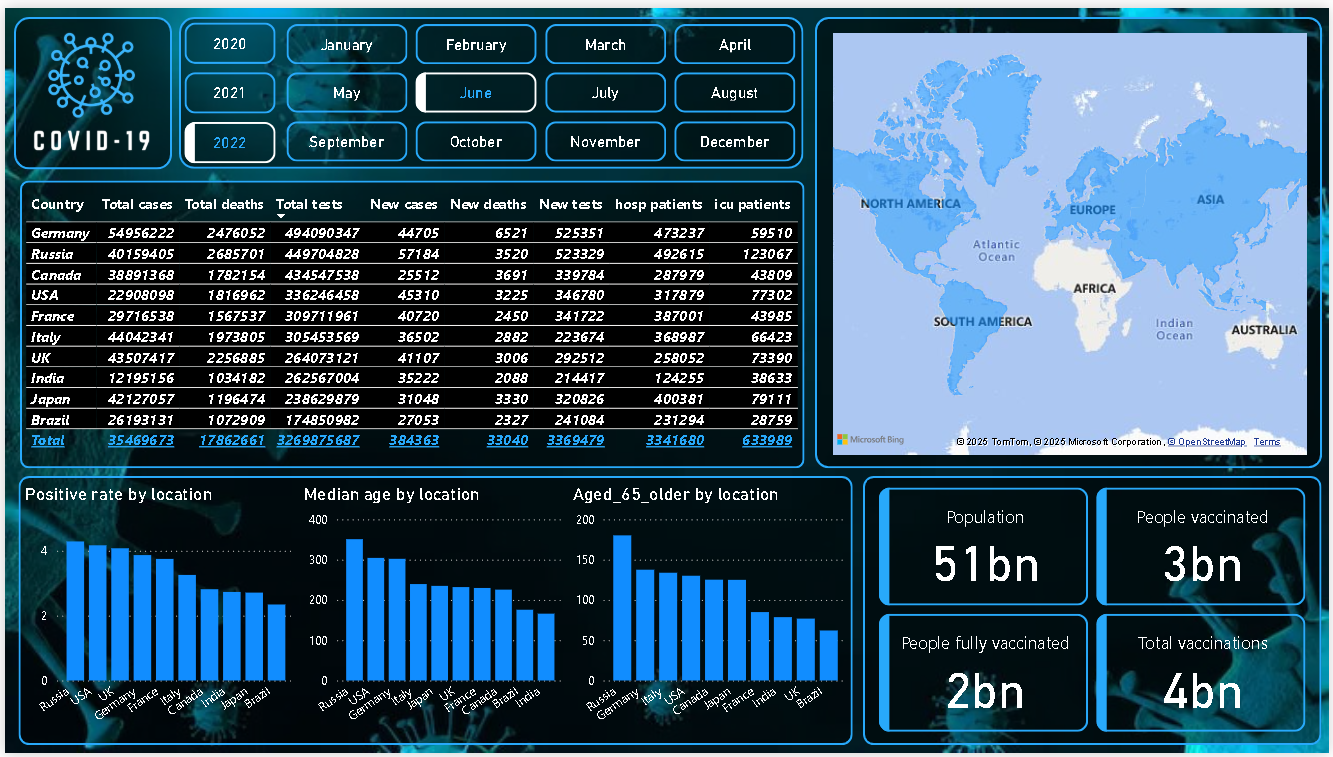

What the dashboard file says about the page in this screenshot:
{"tool":"powerbi","page":{"name":"Page 1","canvas":[1280,720],"ordinal":0},"visuals":[{"type":"shape","box":[782,8,490,436],"z":0},{"type":"shape","box":[8.2,8.2,152.7,147.3],"z":1000},{"type":"shape","box":[168.3,8.3,603.3,146.7],"z":2000},{"type":"image","box":[13.6,13.6,141.8,138.2],"z":3000},{"type":"advancedSlicerVisual","fields":{"Values":["dataset_cleaned.date.Variation.Date Hierarchy.Year"]},"box":[168.5,8,98.5,147.5],"z":4000},{"type":"advancedSlicerVisual","fields":{"Values":["dataset_cleaned.date.Variation.Date Hierarchy.Month"]},"box":[266.4,10,505.5,143.6],"z":5000},{"type":"filledMap","fields":{"Category":["dataset_cleaned.continent"]},"box":[793.8,18.8,468.8,417.5],"z":6000},{"type":"shape","box":[14,166,758,278],"z":7000},{"type":"tableEx","fields":{"Values":["dataset_cleaned.location","Sum(dataset_cleaned.total_cases)","Sum(dataset_cleaned.total_deaths)","Sum(dataset_cleaned.total_tests)","Sum(dataset_cleaned.new_cases)","Sum(dataset_cleaned.new_deaths)","Sum(dataset_cleaned.new_tests)","Sum(dataset_cleaned.hosp_patients)","Sum(dataset_cleaned.icu_patients)"]},"box":[14.4,174.4,756.7,261.1],"z":8000},{"type":"shape","box":[13,452,806,260],"z":9000},{"type":"shape","box":[829,452,443,260],"z":10000},{"type":"columnChart","fields":{"Category":["dataset_cleaned.location"],"Y":["Sum(dataset_cleaned.positive_rate)"]},"box":[14,460,270,252],"z":11000},{"type":"clusteredColumnChart","title":"Median age by location","fields":{"Category":["dataset_cleaned.location"],"Y":["Sum(dataset_cleaned.median_age)"]},"box":[284,460,260,252],"z":12000},{"type":"clusteredColumnChart","title":"Aged_65_older by location","fields":{"Y":["Sum(dataset_cleaned.aged_65_older)"],"Category":["dataset_cleaned.location"]},"box":[544,460,275,252],"z":12001},{"type":"cardVisual","fields":{"Data":["Sum(dataset_cleaned.population)","Sum(dataset_cleaned.people_vaccinated)","Sum(dataset_cleaned.people_fully_vaccinated)","Sum(dataset_cleaned.total_vaccinations)"]},"box":[838.6,458.6,422.9,247.1],"z":12002}]}

Visuals, with their boxes in screenshot pixels (x1, y1, x2, y2), scaled from the page's 1280x720 canvas onto the 1333x757 screenshot:
shape: [814, 8, 1325, 467]
shape: [9, 9, 168, 163]
shape: [175, 9, 804, 163]
image: [14, 14, 162, 160]
advancedSlicerVisual - dataset_cleaned.date.Variation.Date Hierarchy.Year: [175, 8, 278, 163]
advancedSlicerVisual - dataset_cleaned.date.Variation.Date Hierarchy.Month: [277, 11, 804, 161]
filledMap - dataset_cleaned.continent: [827, 20, 1315, 459]
shape: [15, 175, 804, 467]
tableEx - dataset_cleaned.location x Sum(dataset_cleaned.total_cases): [15, 183, 803, 458]
shape: [14, 475, 853, 749]
shape: [863, 475, 1325, 749]
columnChart - dataset_cleaned.location x Sum(dataset_cleaned.positive_rate): [15, 484, 296, 749]
"Median age by location" clusteredColumnChart: [296, 484, 567, 749]
"Aged_65_older by location" clusteredColumnChart: [567, 484, 853, 749]
cardVisual - Sum(dataset_cleaned.population) x Sum(dataset_cleaned.people_vaccinated): [873, 482, 1314, 742]
